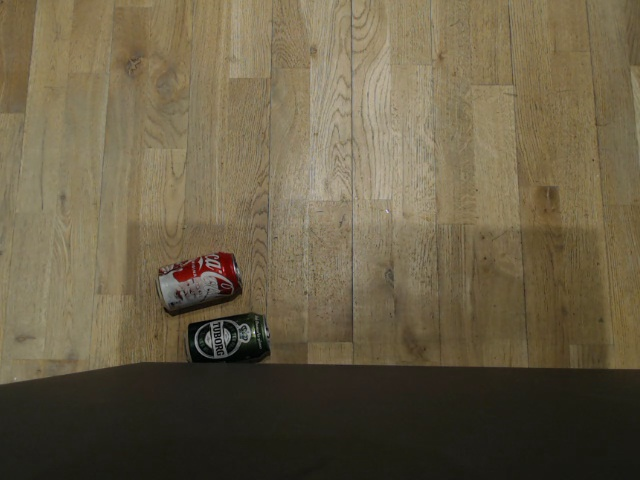beer: (180, 312, 270, 364)
cola: (151, 247, 243, 311)
